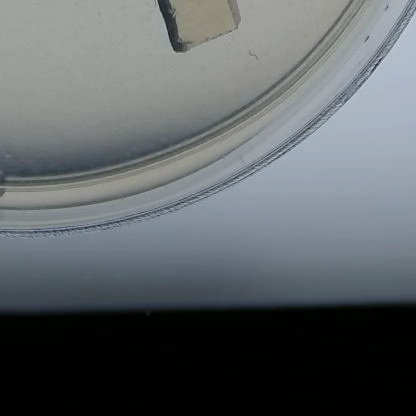worm: (247, 50, 263, 62)
